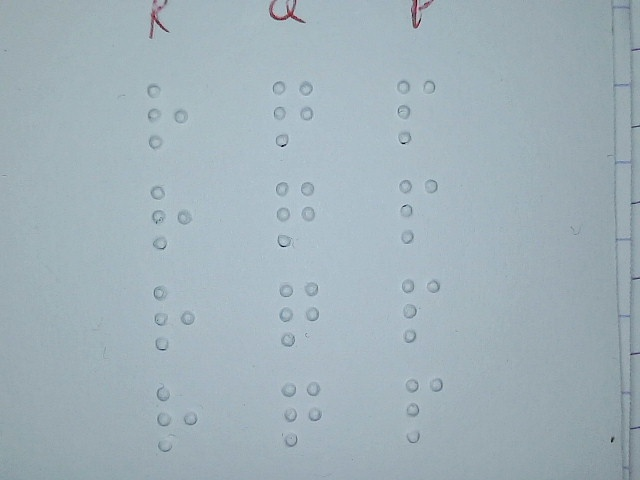P: (394, 75, 438, 147), (396, 174, 440, 246), (399, 273, 443, 345), (402, 373, 446, 445)
Q: (271, 77, 315, 149), (274, 177, 318, 249), (277, 278, 321, 350), (280, 377, 324, 449)
R: (146, 80, 190, 152), (149, 180, 193, 252), (152, 280, 196, 352), (155, 383, 199, 455)
